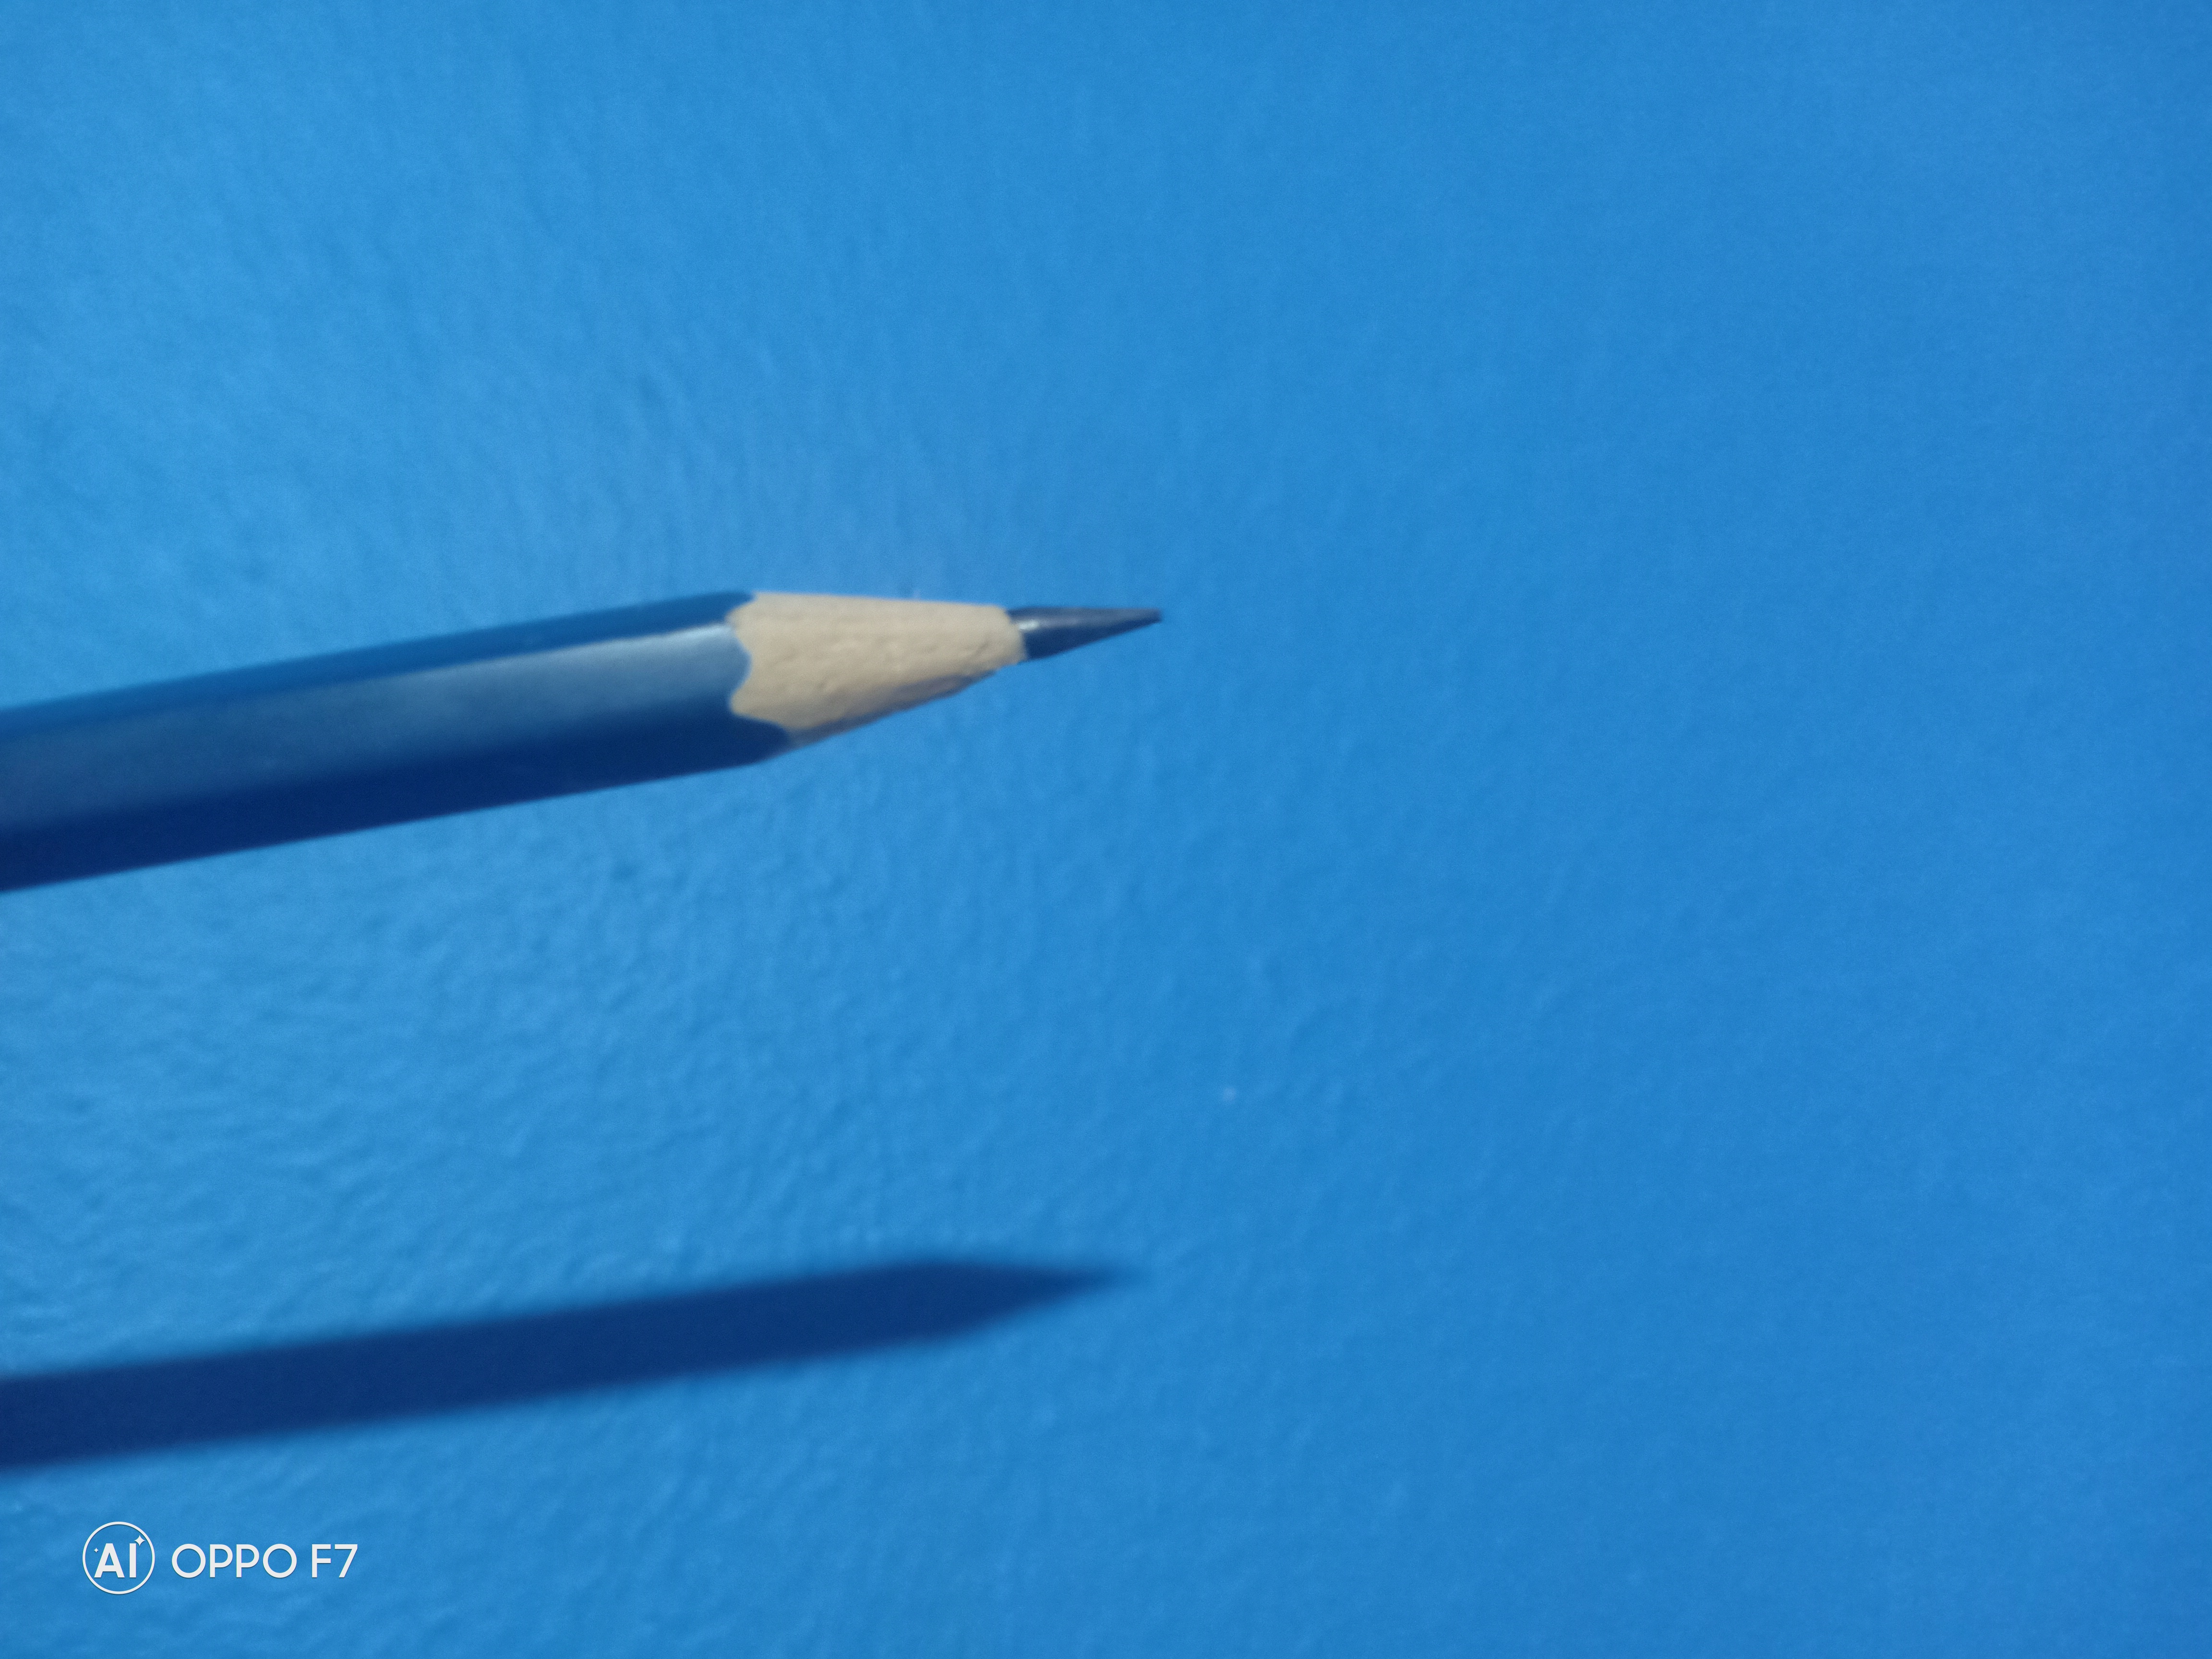pen_tip: (603, 477, 1247, 810)
